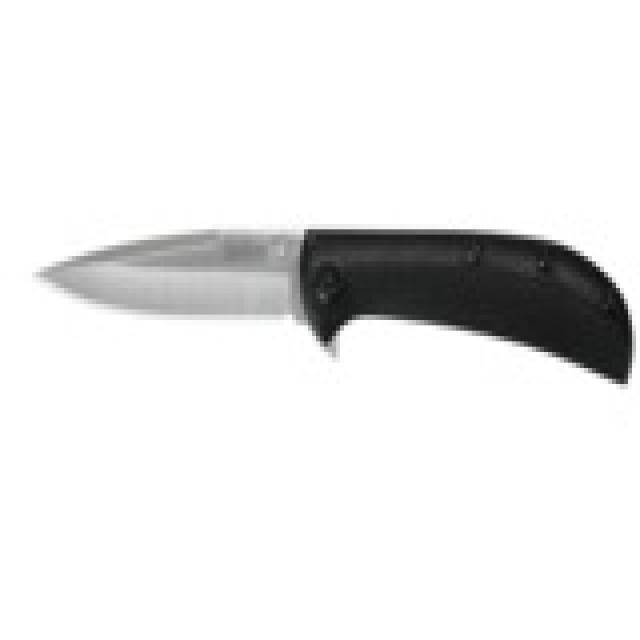Knife: (23, 188, 635, 400)
